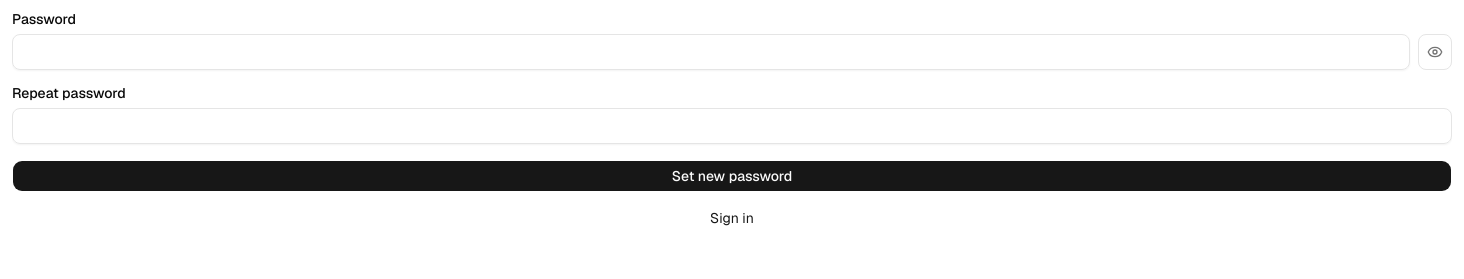
Test: ResetPasswordView › shows reused token message for RESET_TOKEN_ALREADY_USED
Type "12345678" into the password field labelled "Password".
click(711, 52); type("12345678")  # box x1=12 y1=34 x2=1410 y2=70
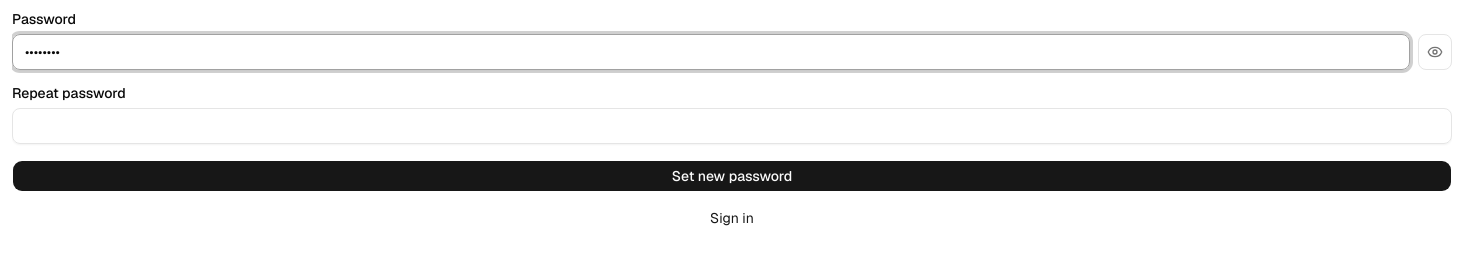
Type "12345678" into the password field labelled "Repeat password".
click(732, 126); type("12345678")  # box x1=12 y1=108 x2=1452 y2=144
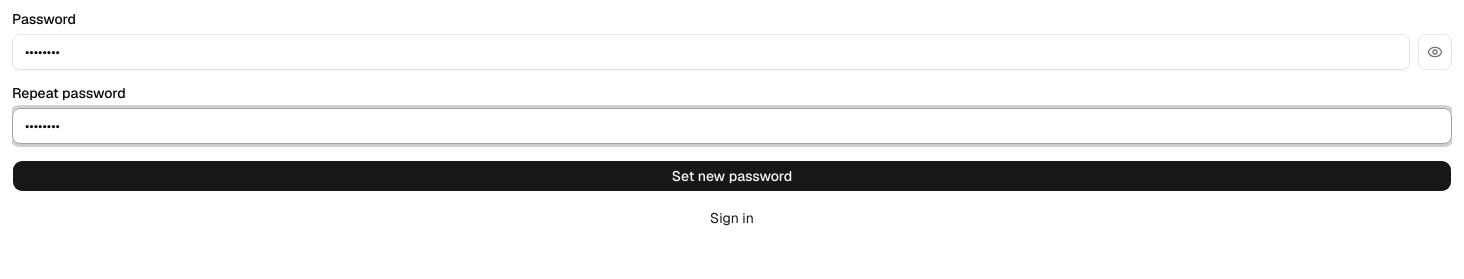
Click the button "Set new password".
click(732, 176)  # box x1=12 y1=160 x2=1452 y2=192
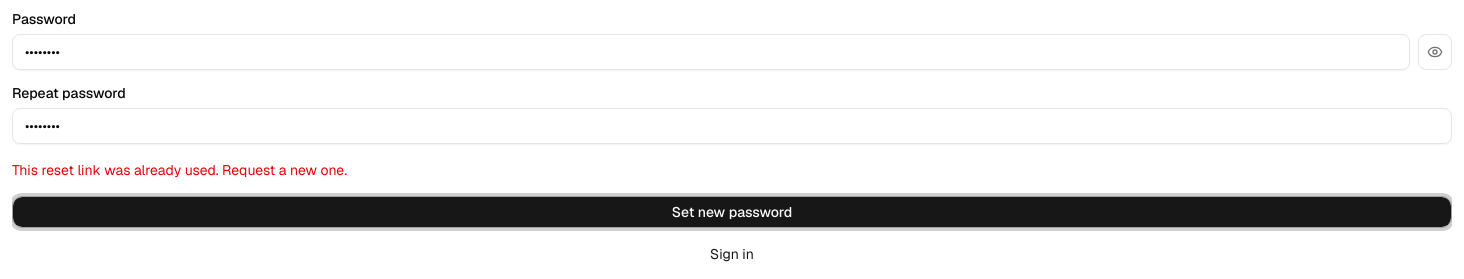
Result: the message shows "already used" at x1=12 y1=161 x2=347 y2=179
